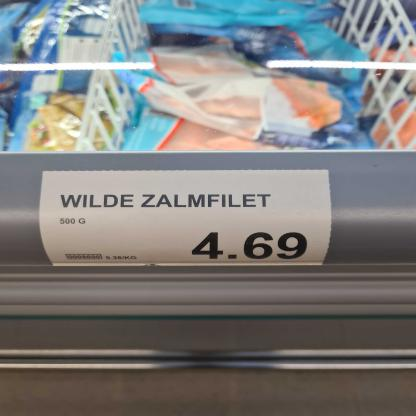prtg: (35, 170, 334, 268)
